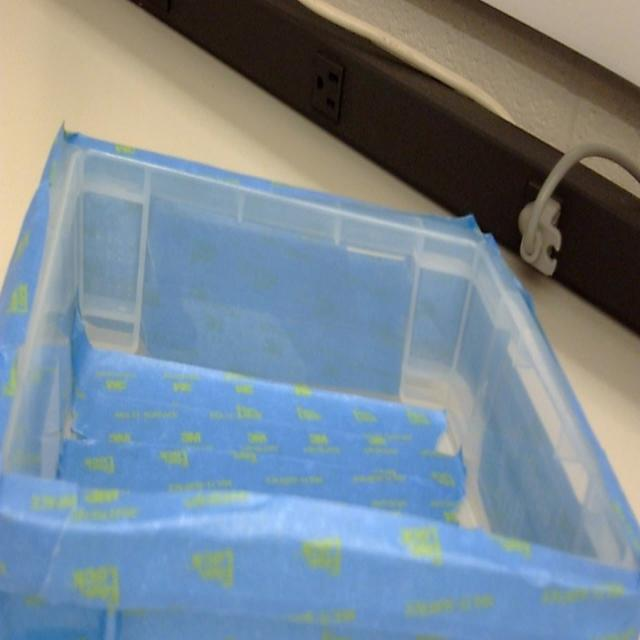bucket: (0, 126, 640, 640)
